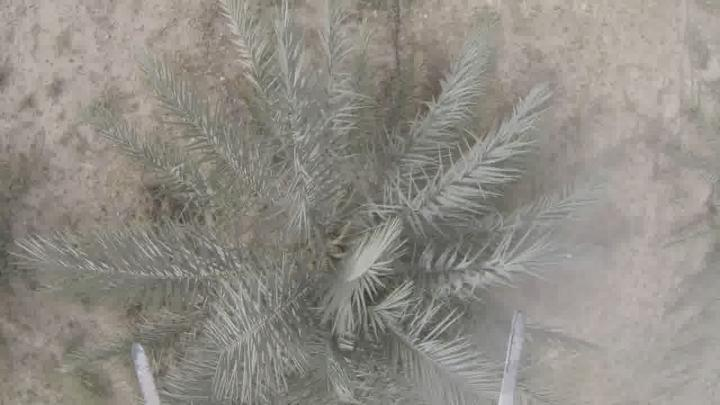Date-Palm-Crown: (170, 89, 500, 405)
